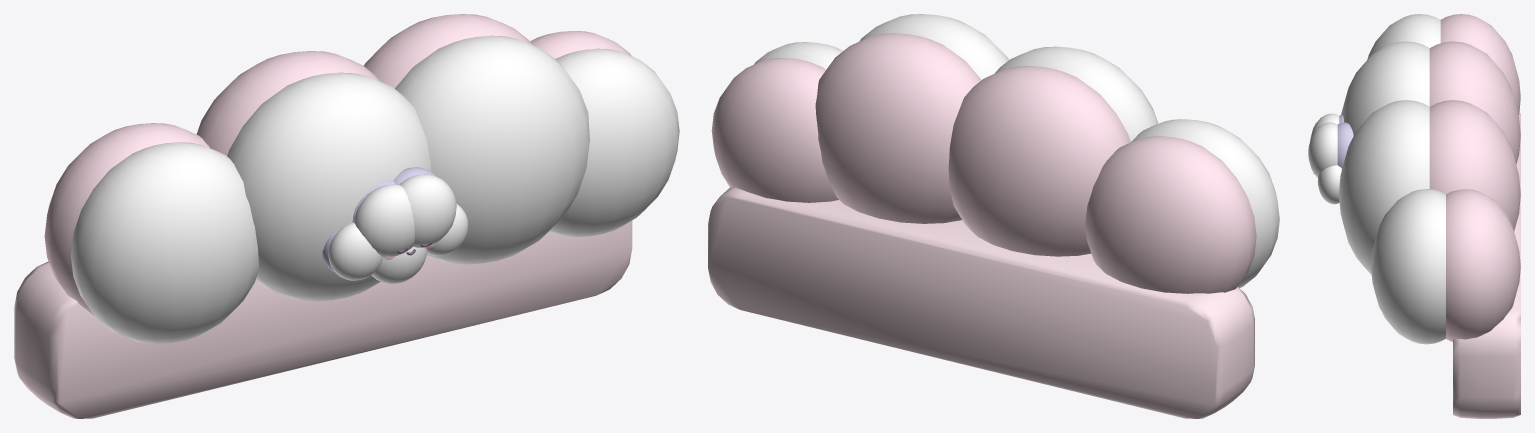
File: decor_1_candy.glb
3 renders of one model, left to right at view 1: azimuth 30°, elevation 25°; view 2: azimuth 150°, elevation 25°; view 3: azimuth 270°, elevation 25°, orthographic. The views are drawn at different scales.
Parts seen in each view (by area): view 1: decor_1_candy; view 2: decor_1_candy; view 3: decor_1_candy.
Part boxes in pixels (x1,y1,x2,y2): decor_1_candy: [14, 14, 679, 418]; decor_1_candy: [708, 14, 1279, 418]; decor_1_candy: [1308, 14, 1520, 418].
Size of the model in its own units: 19.94 by 9.94 by 7.66.
